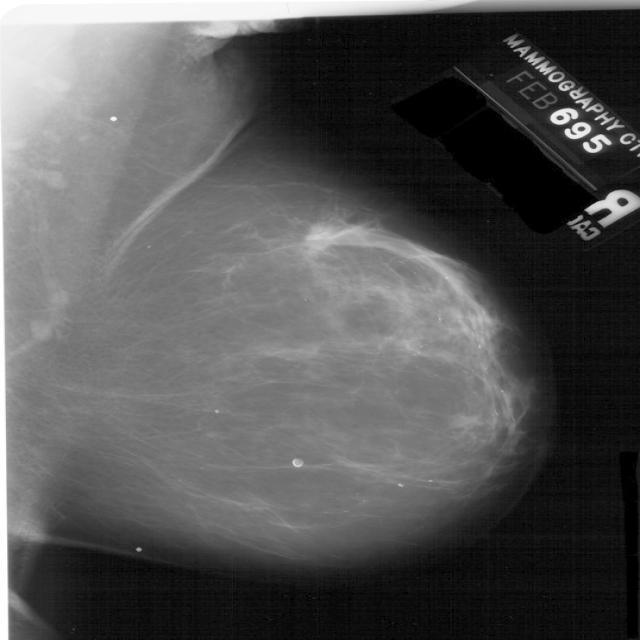tumour: (302, 221, 353, 248)
